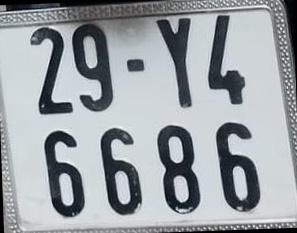-: (127, 61, 144, 71)
2: (30, 27, 68, 114)
4: (207, 15, 246, 105)
6: (216, 123, 261, 211), (100, 128, 143, 212), (43, 133, 84, 219)
8: (157, 125, 200, 212)
9: (73, 25, 113, 111)
Y: (156, 19, 190, 106)
